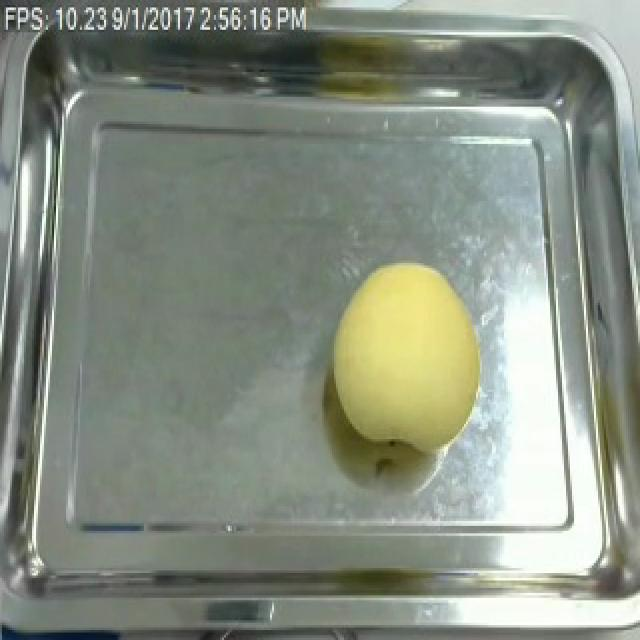Fruit: (320, 253, 492, 459)
